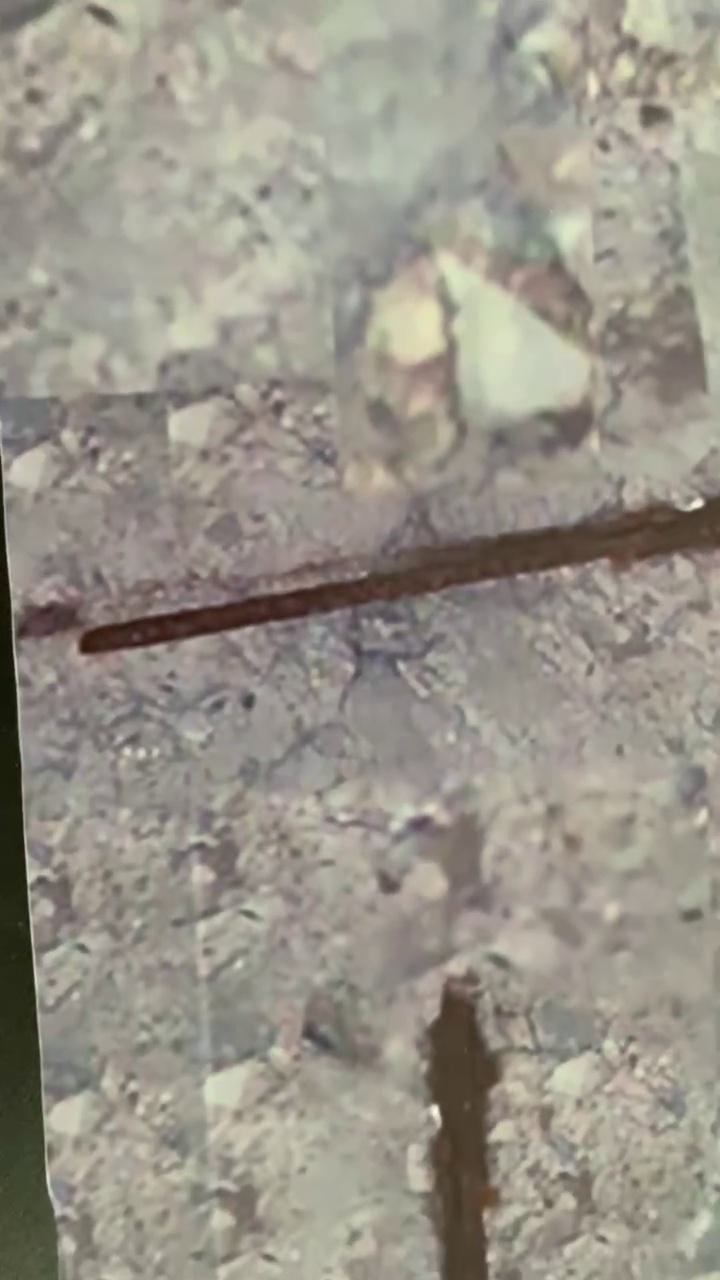Exposed reinforcement: (76, 508, 720, 660), (424, 974, 503, 1280)
